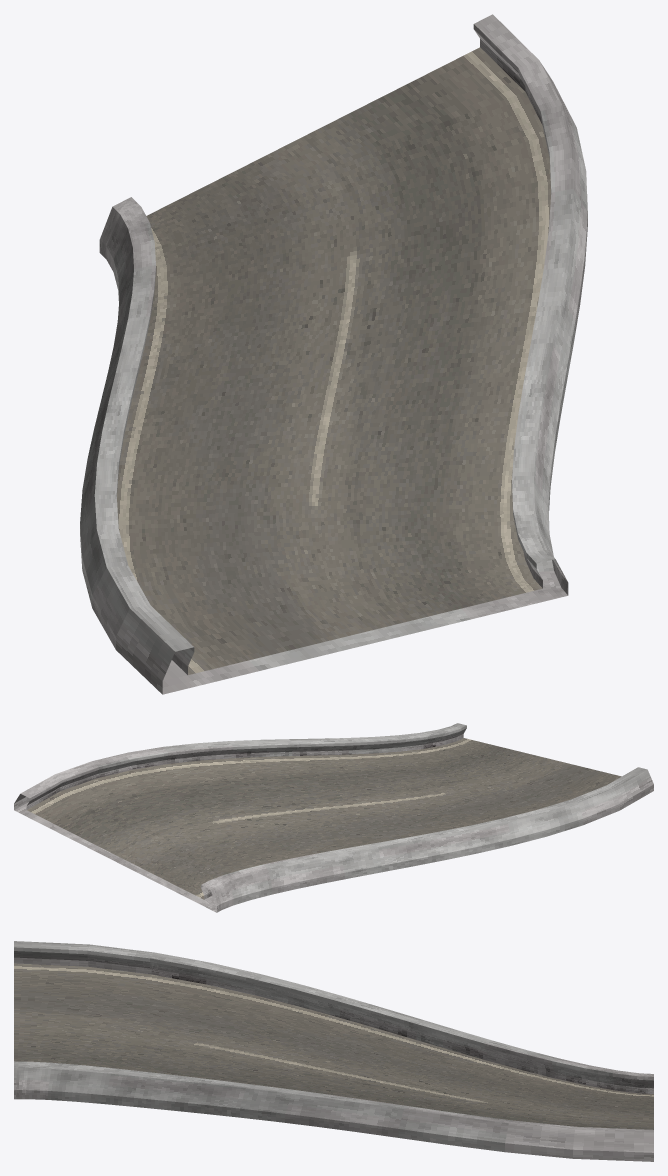
The model's file is chicane-right1x2.glb.
3 renders of one model, top to bottom at view 1: azimuth 30°, elevation 25°; view 2: azimuth 150°, elevation 25°; view 3: azimuth 270°, elevation 25°, orthographic. The views are drawn at different scales.
Parts seen in each view (by area): view 1: road-Chicane-Flat-HalfBankedLeft-Even-Right1-Size2; view 2: road-Chicane-Flat-HalfBankedLeft-Even-Right1-Size2; view 3: road-Chicane-Flat-HalfBankedLeft-Even-Right1-Size2.
Part boxes in pixels (x1,y1,x2,y2): road-Chicane-Flat-HalfBankedLeft-Even-Right1-Size2: (80, 14, 587, 694); road-Chicane-Flat-HalfBankedLeft-Even-Right1-Size2: (14, 723, 653, 912); road-Chicane-Flat-HalfBankedLeft-Even-Right1-Size2: (14, 941, 653, 1161).
Bounding box in the file's own units: 2 × 0.3359 × 2.
2 materials, 2 textured.
